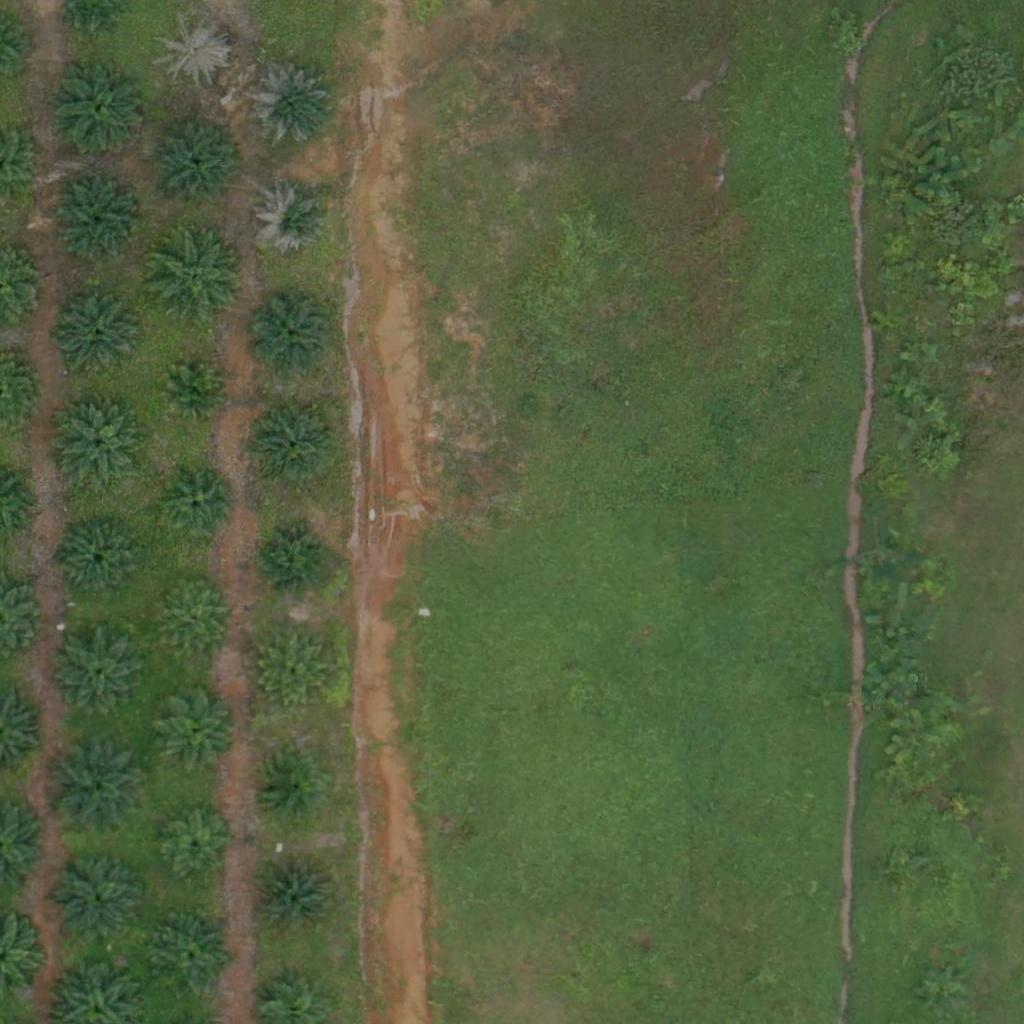Kelapa_Sawit: (43, 739, 143, 840), (50, 60, 150, 160), (149, 114, 249, 214), (149, 228, 249, 328), (58, 517, 146, 606), (245, 62, 333, 150), (247, 292, 335, 380), (248, 403, 336, 491), (151, 912, 239, 1000), (53, 631, 141, 719), (52, 856, 140, 944), (149, 684, 236, 772), (252, 856, 339, 944), (55, 177, 142, 265), (54, 293, 141, 381), (55, 403, 142, 491), (156, 13, 231, 89), (257, 183, 332, 259), (162, 468, 237, 543), (160, 810, 235, 885), (252, 631, 327, 706), (259, 523, 334, 598), (154, 579, 229, 654), (257, 754, 320, 817), (164, 363, 227, 426)
